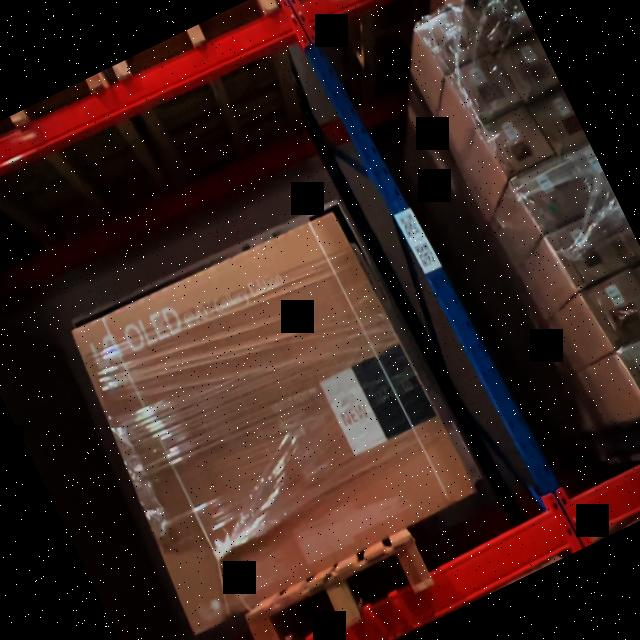box: (74, 205, 468, 615)
